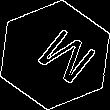M_SW: (19, 21, 91, 89)
